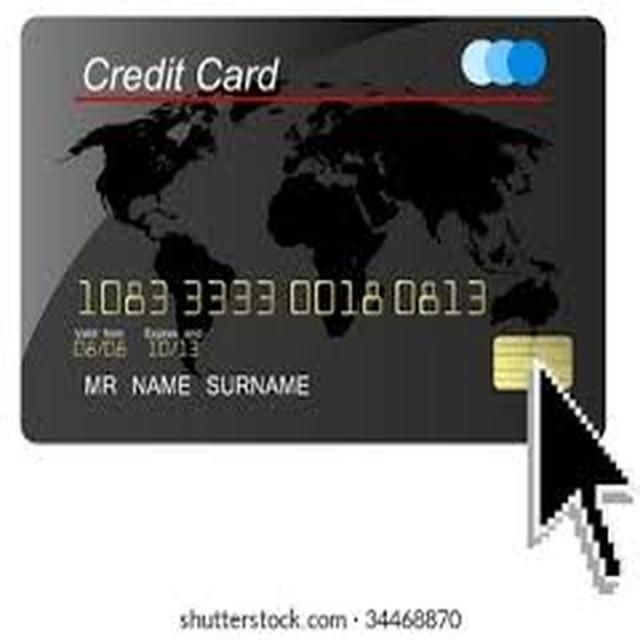card: (15, 12, 609, 445)
